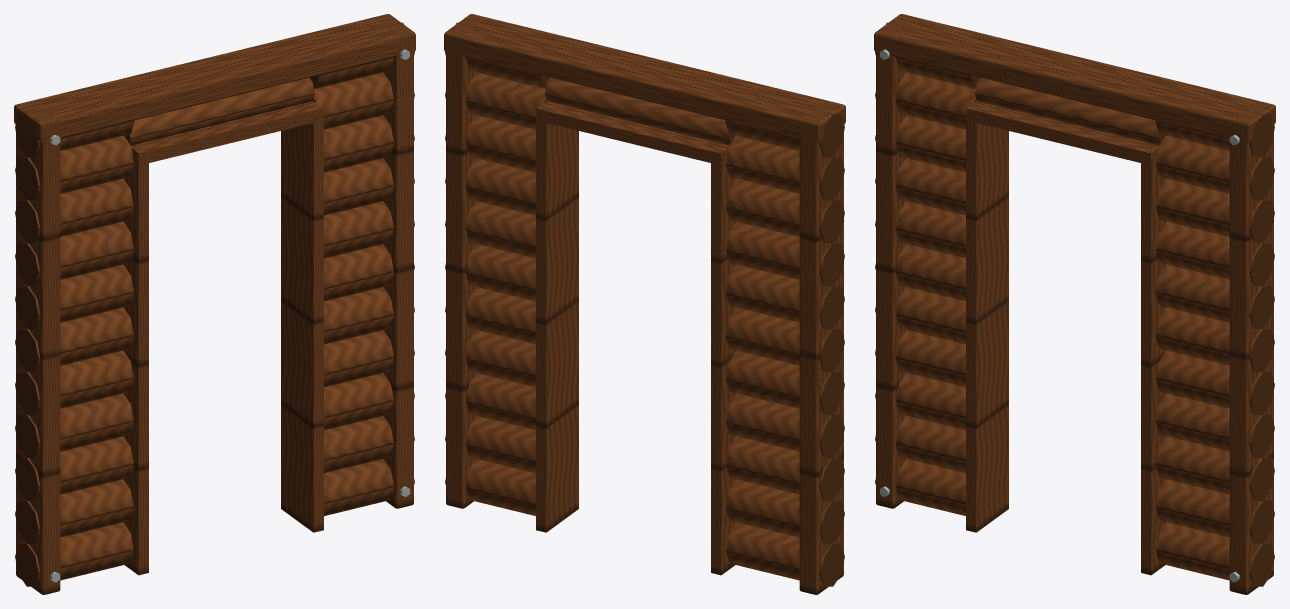
File: prehistoric-survivor-settlement-log-door-wall-3b16ee64__23165.glb
3 views of the same model, side by side, from view 1: azimuth 30°, elevation 25°; view 2: azimuth 150°, elevation 25°; view 3: azimuth 330°, elevation 25° (orthographic).
Visible parts, largest first — view 1: log-door-wall; view 2: log-door-wall; view 3: log-door-wall.
Boxes of the visible parts, box(x1,y1,x2,y2) form: log-door-wall: box(14, 14, 415, 594); log-door-wall: box(444, 14, 845, 594); log-door-wall: box(874, 14, 1275, 594).
Size of the model in its own units: 2 by 2.4 by 0.3.
Materials: 2 (1 with a texture image).
